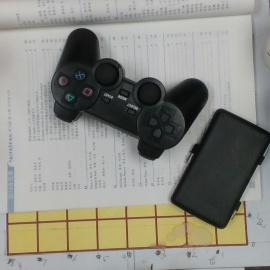remote: (48, 23, 208, 161)
